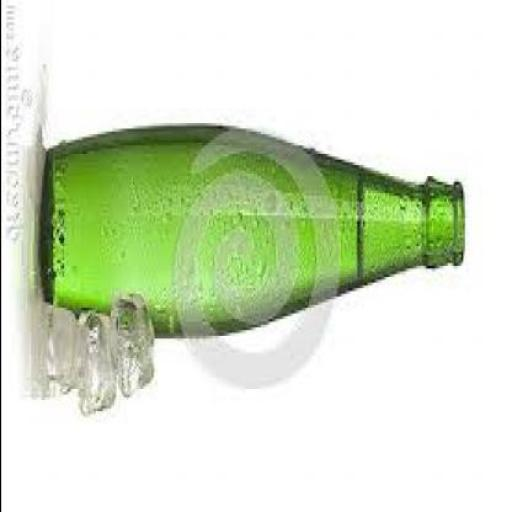glass: (38, 134, 464, 341)
